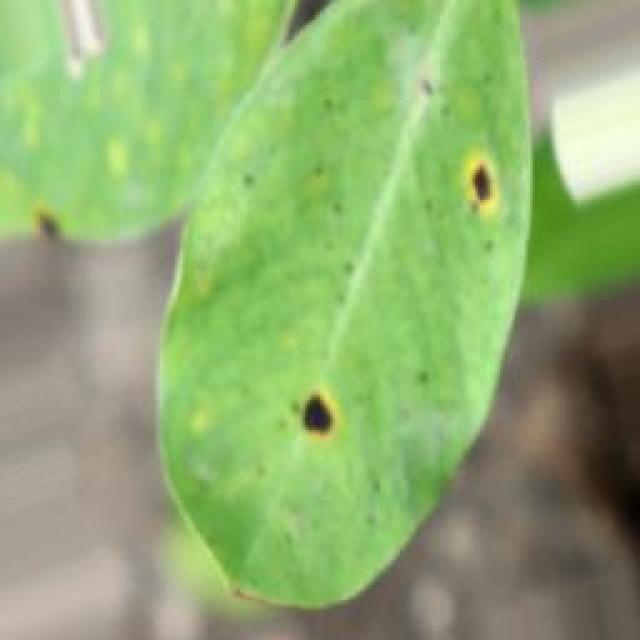Yellowish: (268, 348, 380, 489), (444, 130, 518, 248)
